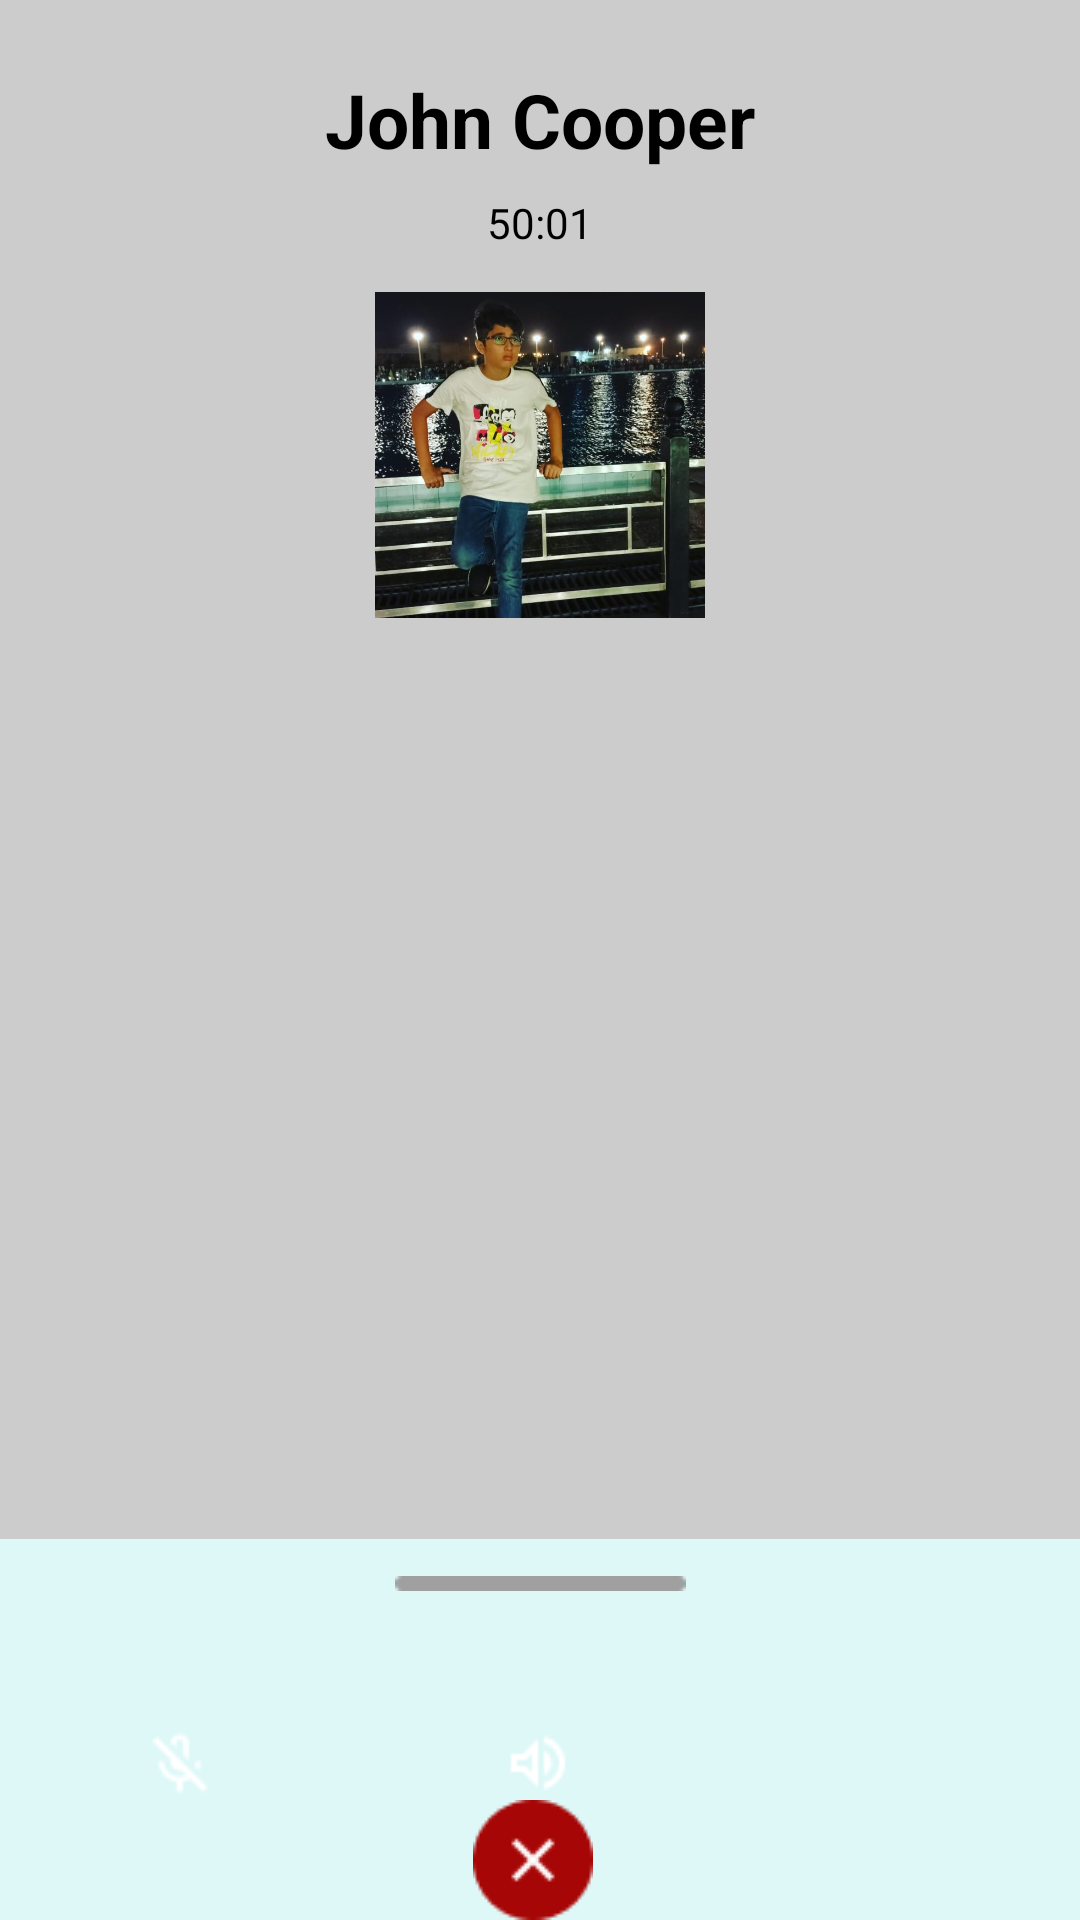

Icons on this 1080×1920 Android screen, each with its box as (x1, y1, x2, y2):
mic off: (154, 1736, 204, 1790)
volume up: (512, 1738, 564, 1788)
